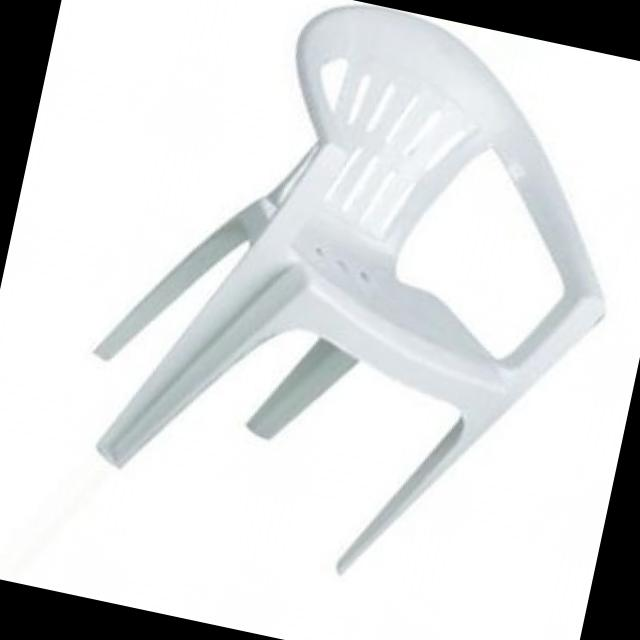Chair: (51, 0, 640, 616)
